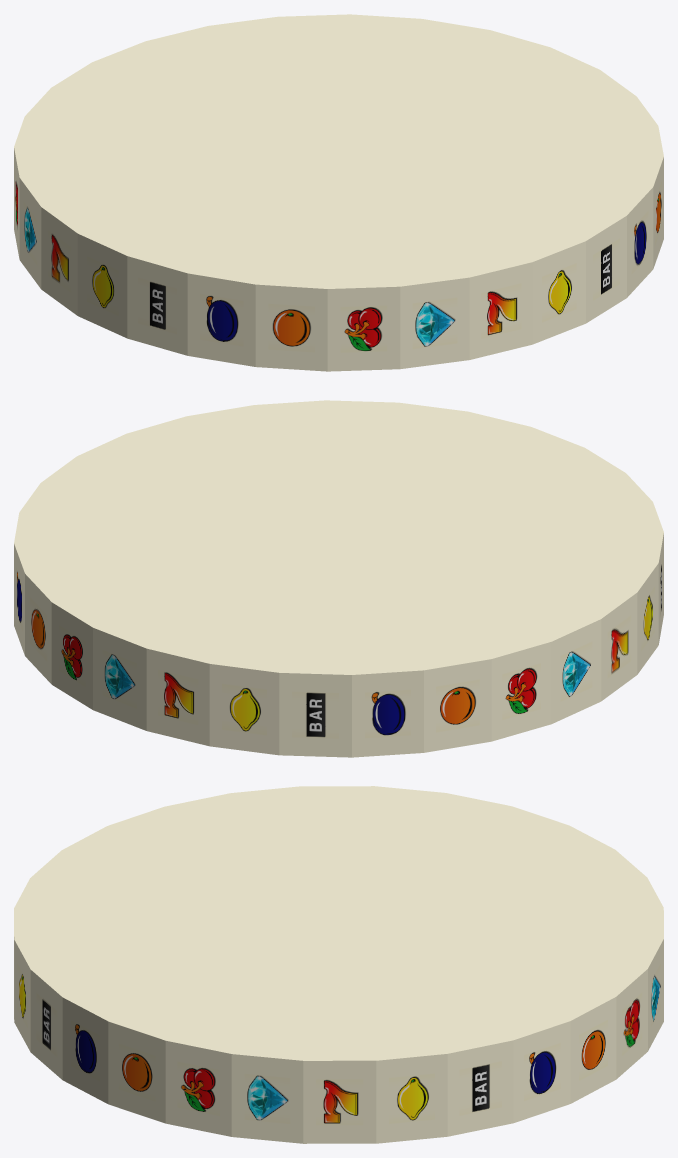
The model's file is WHEEL3.fbx.
3 renders of one model, top to bottom at view 1: azimuth 30°, elevation 25°; view 2: azimuth 150°, elevation 25°; view 3: azimuth 270°, elevation 25°, orthographic.
Visible parts, largest first — view 1: Cylinder; view 2: Cylinder; view 3: Cylinder.
Boxes of the visible parts, bbox=[...] form: Cylinder: bbox=[14, 14, 663, 371]; Cylinder: bbox=[14, 400, 663, 757]; Cylinder: bbox=[14, 786, 663, 1143].
Size of the model in its own units: 199 by 28 by 199.
